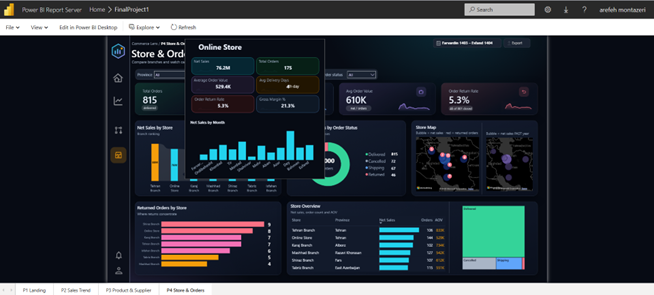

The page's visual inventory and layout, read from the dashboard file:
{"tool":"powerbi","page":{"name":"P4 Store & Orders","canvas":[1920,1080],"ordinal":3},"visuals":[{"type":"shape","box":[82,0,26,1080],"z":0},{"type":"shape","box":[0,0,96,1080],"z":1000},{"type":"image","box":[0,28,96,80],"z":2000},{"type":"image","box":[22,160,50,50],"z":3000},{"type":"image","box":[22,262,50,50],"z":4000},{"type":"image","box":[24,388,50,50],"z":5000},{"type":"image","box":[14,488,70,70],"z":6000},{"type":"image","box":[30,940,40,40],"z":7000},{"type":"image","box":[30,1006,40,40],"z":8000},{"type":"shape","box":[74,0,48,1080],"z":9000},{"type":"textbox","box":[102,0,322,68],"z":10000},{"type":"textbox","box":[100,44,558,80],"z":11000},{"type":"textbox","box":[102,100,404,48],"z":12000},{"type":"card","fields":{"Values":["Fact_OrderLines.Total Orders"]},"box":[120,246.2,130,65],"z":13000},{"type":"textbox","box":[148.8,226.2,122.5,38.8],"z":14000},{"type":"image","box":[453.8,224.5,52.5,43.8],"z":15000},{"type":"image","box":[381.7,287,135,55],"z":16000},{"type":"card","fields":{"Values":["Fact_OrderLines.Buying Customers"]},"box":[576.2,246.2,101.2,66.2],"z":17000},{"type":"shape","title":"fffffff","box":[591.2,305,113.8,26.2],"z":18000},{"type":"textbox","box":[588.8,226.2,177.5,37.5],"z":19000},{"type":"image","box":[894.9,223.8,52.5,43.8],"z":20000},{"type":"image","box":[822.8,286.3,135,55],"z":21000},{"type":"card","fields":{"Values":["Fact_OrderLines.Average Order Value_AOV"]},"box":[1006.2,246.2,160,66.2],"z":22000},{"type":"shape","title":"fffffff","box":[1042.5,305,112.5,26.2],"z":23000},{"type":"textbox","box":[1038.6,225.7,150,38.6],"z":24000},{"type":"image","box":[1344.7,223.8,52.5,43.8],"z":25000},{"type":"image","box":[1272.6,286.3,135,55],"z":26000},{"type":"card","fields":{"Values":["Fact_OrderLines.Order Return Rate"]},"box":[1476.2,246.2,122.5,65],"z":27000},{"type":"shape","title":"fffffff","box":[1491.2,306.2,107.5,25],"z":28000},{"type":"textbox","box":[1487.1,225.7,161.4,38.6],"z":29000},{"type":"image","box":[1793.1,223.8,52.5,43.8],"z":30000},{"type":"image","box":[1721,286.3,135,55],"z":31000},{"type":"shape","box":[122,148,255,46],"z":32000},{"type":"slicer","fields":{"Values":["Dim_Supplier.Province"]},"box":[194,146,186,48],"z":33000},{"type":"shape","box":[388.8,147.4,255,46],"z":34000},{"type":"slicer","fields":{"Values":["Dim_Store.StoreName"]},"box":[450,146,194,48],"z":35000},{"type":"shape","box":[656.2,148.2,255,46],"z":36000},{"type":"slicer","fields":{"Values":["Dim_Store.ChannelType"]},"box":[730,146,182,48],"z":37000},{"type":"shape","box":[925.5,147.5,255,46],"z":38000},{"type":"slicer","fields":{"Values":["Fact_OrderLines.OrderStatus"]},"box":[1038,146,144,48],"z":39000},{"type":"shape","title":"fffffff","box":[148.8,302.5,72.5,26.2],"z":40000},{"type":"donutChart","title":"Number of Orders by Order Status","fields":{"Category":["Fact_OrderLines.OrderStatus"],"Y":["Fact_OrderLines.All Orders"]},"box":[796,388,434,298],"z":41000},{"type":"card","fields":{"Values":["Count(Fact_OrderLines.OrderLineID)"]},"box":[852,518,218,82],"z":42000},{"type":"card","fields":{"Values":["Fact_OrderLines.Returned_Orders"]},"box":[1219.6,590.4,60,38],"z":43000},{"type":"card","fields":{"Values":["Fact_OrderLines.Cancel Orders"]},"box":[1231.6,528.4,36,42],"z":44000},{"type":"card","fields":{"Values":["Fact_OrderLines.Total Orders"]},"box":[1223.6,500.4,60,38],"z":45000},{"type":"card","fields":{"Values":["Fact_OrderLines.Shipping Orders"]},"box":[1219.6,562.4,60,38],"z":46000},{"type":"ribbonChart","title":"Net Sales by Store","fields":{"Category":["Dim_Store.StoreName"],"Y":["Fact_OrderLines.Net Sales"]},"box":[126,388,646,306],"z":47000},{"type":"treemap","fields":{"Group":["Fact_OrderLines.OrderStatus"],"Values":["Sum(Fact_OrderLines.NetSales)"]},"box":[1546,738,282,288],"z":48000},{"type":"clusteredBarChart","title":"Returned Orders by Store","fields":{"Y":["Fact_OrderLines.Returned Orders"],"Category":["Dim_Store.StoreName"]},"box":[126.2,738.8,613.8,287.5],"z":49000},{"type":"textbox","box":[696.2,805,33.8,237.5],"z":50000},{"type":"tableEx","title":"Store Overview","fields":{"Values":["Dim_Store.StoreName","Dim_Store.Province","Fact_OrderLines.Net Sales","Fact_OrderLines.Total Orders","Fact_OrderLines.Average Order Value_AOV"]},"box":[796,732,714,342],"z":51000},{"type":"shape","box":[1418,726,150,312],"z":52000},{"type":"map","title":"Store Map","fields":{"Category":["Dim_Store.Province"],"Size":["Fact_OrderLines.Net Sales"]},"box":[1343.8,387.5,286.2,298.8],"z":53000},{"type":"shape","title":"1","box":[1485.4,603.9,20,20],"z":54000},{"type":"textbox","box":[1482.2,595,26.2,37.5],"z":55000},{"type":"shape","title":"1","box":[1485,553.7,20,20],"z":56000},{"type":"textbox","box":[1481.7,548.1,26.7,30],"z":57000},{"type":"shape","title":"1","box":[1479.2,513.7,20,20],"z":58000},{"type":"textbox","box":[1475.9,508.1,26.7,30],"z":59000},{"type":"shape","title":"1","box":[1454,511.3,20,20],"z":60000},{"type":"textbox","box":[1450.7,505.8,26.7,30],"z":61000},{"type":"shape","title":"1","box":[1406.1,486,20,20],"z":62000},{"type":"textbox","box":[1402.8,480.4,26.7,30],"z":63000},{"type":"shape","title":"1","box":[1551.2,521.7,20,20],"z":64000},{"type":"textbox","box":[1547.9,516.1,26.7,30],"z":65000},{"type":"shape","box":[1561.2,381.2,150,312.5],"z":66000},{"type":"map","fields":{"Category":["Dim_Store.Province"],"Size":["Fact_OrderLines.Net Sales PY"]},"box":[1650,412.5,213.8,272.5],"z":67000},{"type":"shape","box":[1424,14,298,40],"z":68000},{"type":"image","box":[1434,24,26,20],"z":69000},{"type":"shape","box":[1732,14,116,40],"z":70000},{"type":"image","box":[1740,24,30,20],"z":71000}]}

Visuals, with their boxes on the page's 1920x1080 design canvas (x1, y1, x2, y2). These are canvas units, not pixel positions in the 654x295 screenshot, which may show the page scaled, cropped or inside an application window:
shape: x1=82 y1=0 x2=108 y2=1080
shape: x1=0 y1=0 x2=96 y2=1080
image: x1=0 y1=28 x2=96 y2=108
image: x1=22 y1=160 x2=72 y2=210
image: x1=22 y1=262 x2=72 y2=312
image: x1=24 y1=388 x2=74 y2=438
image: x1=14 y1=488 x2=84 y2=558
image: x1=30 y1=940 x2=70 y2=980
image: x1=30 y1=1006 x2=70 y2=1046
shape: x1=74 y1=0 x2=122 y2=1080
textbox: x1=102 y1=0 x2=424 y2=68
textbox: x1=100 y1=44 x2=658 y2=124
textbox: x1=102 y1=100 x2=506 y2=148
card - Fact_OrderLines.Total Orders: x1=120 y1=246 x2=250 y2=311
textbox: x1=149 y1=226 x2=271 y2=265
image: x1=454 y1=224 x2=506 y2=268
image: x1=382 y1=287 x2=517 y2=342
card - Fact_OrderLines.Buying Customers: x1=576 y1=246 x2=677 y2=312
"fffffff" shape: x1=591 y1=305 x2=705 y2=331
textbox: x1=589 y1=226 x2=766 y2=264
image: x1=895 y1=224 x2=947 y2=268
image: x1=823 y1=286 x2=958 y2=341
card - Fact_OrderLines.Average Order Value_AOV: x1=1006 y1=246 x2=1166 y2=312
"fffffff" shape: x1=1042 y1=305 x2=1155 y2=331
textbox: x1=1039 y1=226 x2=1189 y2=264
image: x1=1345 y1=224 x2=1397 y2=268
image: x1=1273 y1=286 x2=1408 y2=341
card - Fact_OrderLines.Order Return Rate: x1=1476 y1=246 x2=1599 y2=311
"fffffff" shape: x1=1491 y1=306 x2=1599 y2=331
textbox: x1=1487 y1=226 x2=1648 y2=264
image: x1=1793 y1=224 x2=1846 y2=268
image: x1=1721 y1=286 x2=1856 y2=341
shape: x1=122 y1=148 x2=377 y2=194
slicer - Dim_Supplier.Province: x1=194 y1=146 x2=380 y2=194
shape: x1=389 y1=147 x2=644 y2=193
slicer - Dim_Store.StoreName: x1=450 y1=146 x2=644 y2=194
shape: x1=656 y1=148 x2=911 y2=194
slicer - Dim_Store.ChannelType: x1=730 y1=146 x2=912 y2=194
shape: x1=926 y1=148 x2=1180 y2=194
slicer - Fact_OrderLines.OrderStatus: x1=1038 y1=146 x2=1182 y2=194
"fffffff" shape: x1=149 y1=302 x2=221 y2=329
"Number of Orders by Order Status" donutChart: x1=796 y1=388 x2=1230 y2=686
card - Count(Fact_OrderLines.OrderLineID): x1=852 y1=518 x2=1070 y2=600
card - Fact_OrderLines.Returned_Orders: x1=1220 y1=590 x2=1280 y2=628
card - Fact_OrderLines.Cancel Orders: x1=1232 y1=528 x2=1268 y2=570
card - Fact_OrderLines.Total Orders: x1=1224 y1=500 x2=1284 y2=538
card - Fact_OrderLines.Shipping Orders: x1=1220 y1=562 x2=1280 y2=600
"Net Sales by Store" ribbonChart: x1=126 y1=388 x2=772 y2=694
treemap - Fact_OrderLines.OrderStatus x Sum(Fact_OrderLines.NetSales): x1=1546 y1=738 x2=1828 y2=1026
"Returned Orders by Store" clusteredBarChart: x1=126 y1=739 x2=740 y2=1026
textbox: x1=696 y1=805 x2=730 y2=1042
"Store Overview" tableEx: x1=796 y1=732 x2=1510 y2=1074
shape: x1=1418 y1=726 x2=1568 y2=1038
"Store Map" map: x1=1344 y1=388 x2=1630 y2=686
"1" shape: x1=1485 y1=604 x2=1505 y2=624
textbox: x1=1482 y1=595 x2=1508 y2=632
"1" shape: x1=1485 y1=554 x2=1505 y2=574
textbox: x1=1482 y1=548 x2=1508 y2=578
"1" shape: x1=1479 y1=514 x2=1499 y2=534
textbox: x1=1476 y1=508 x2=1503 y2=538
"1" shape: x1=1454 y1=511 x2=1474 y2=531
textbox: x1=1451 y1=506 x2=1477 y2=536
"1" shape: x1=1406 y1=486 x2=1426 y2=506
textbox: x1=1403 y1=480 x2=1430 y2=510
"1" shape: x1=1551 y1=522 x2=1571 y2=542
textbox: x1=1548 y1=516 x2=1575 y2=546
shape: x1=1561 y1=381 x2=1711 y2=694
map - Dim_Store.Province x Fact_OrderLines.Net Sales PY: x1=1650 y1=412 x2=1864 y2=685
shape: x1=1424 y1=14 x2=1722 y2=54
image: x1=1434 y1=24 x2=1460 y2=44
shape: x1=1732 y1=14 x2=1848 y2=54
image: x1=1740 y1=24 x2=1770 y2=44
